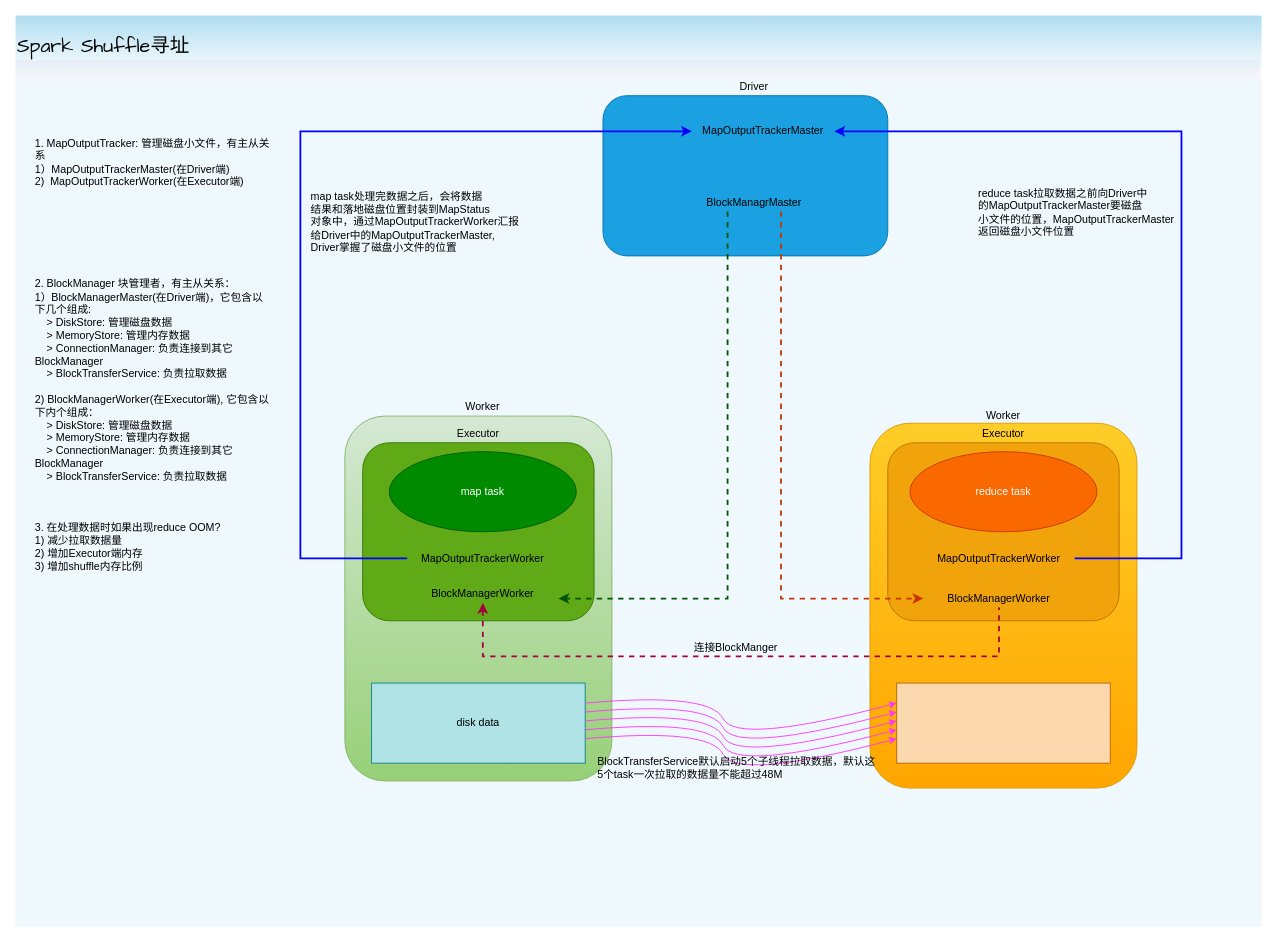
Image size: 1276x942. Some labels were removed from this diagram. The shapes that lost their labels are listed below. From the top down, each one's centre as x and y in pixels, then its label:
[637,68]: 作者：独孤求败 邮箱：david.tian@live.com
[1003,722]: spark.shuffle.memoryFraction 0.2
